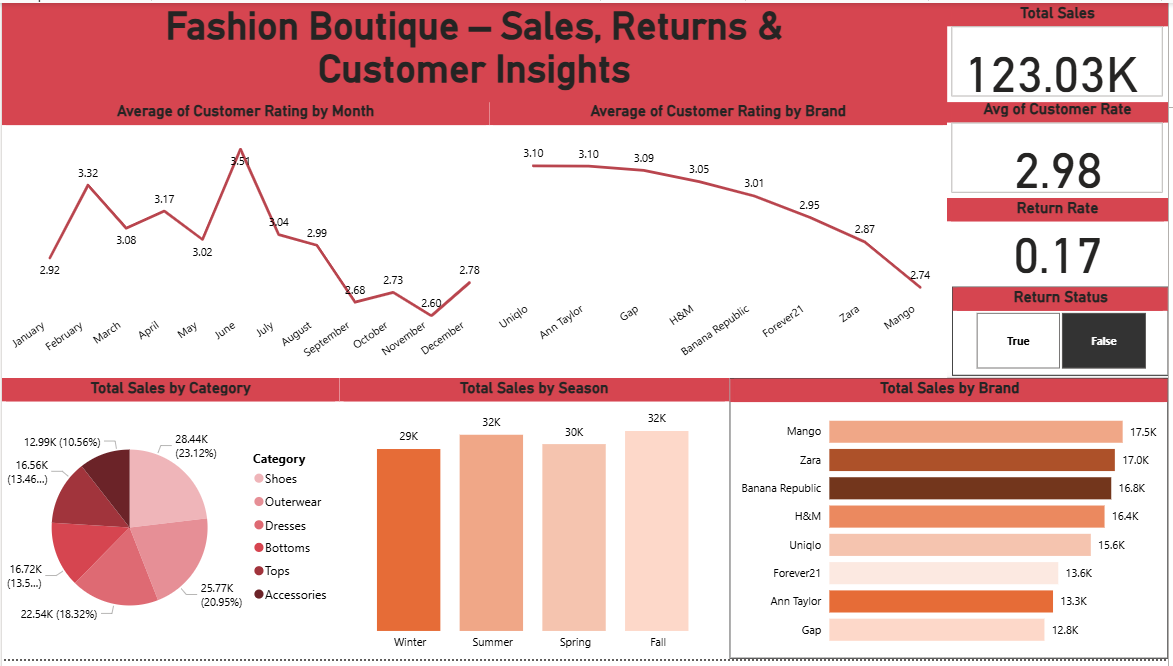

What the dashboard file says about the page in this screenshot:
{"tool":"powerbi","page":{"name":"Page 1","canvas":[1280,720],"ordinal":0},"visuals":[{"type":"pieChart","title":"Total Sales by Category","fields":{"Category":["Sheet1.category"],"Y":["Sum(Sheet1.current_price)"]},"box":[0,411.9,370.6,307.9],"z":0},{"type":"clusteredBarChart","title":"Total Sales by Brand","fields":{"Category":["Sheet1.brand"],"Y":["Sum(Sheet1.current_price)"]},"box":[798.2,411.9,481.8,307.9],"z":1000},{"type":"lineChart","title":"Average of Customer Rating by Brand","fields":{"Y":["Avg(Sheet1.customer_rating)"],"Category":["Sheet1.brand"]},"box":[535.2,108.4,502.2,303.3],"z":2000},{"type":"clusteredColumnChart","title":"Total Sales by Season","fields":{"Category":["Sheet1.season"],"Y":["Sum(Sheet1.current_price)"]},"box":[370.6,411.9,427.6,307.9],"z":3000},{"type":"lineChart","title":"Average of Customer Rating by Month","fields":{"Y":["Avg(Sheet1.customer_rating)"],"Category":["Sheet1.purchase_date.Variation.Date Hierarchy.Month"]},"box":[0,108.4,535.2,303.3],"z":4000},{"type":"slicer","title":"Return Status","fields":{"Values":["Sheet1.is_returned"]},"box":[1042.6,311.5,237.4,97.4],"z":5000},{"type":"cardVisual","title":"Avg of Customer Rate","fields":{"Data":["Avg(Sheet1.customer_rating)"]},"box":[1037.1,105.7,242.9,108.4],"z":6000},{"type":"cardVisual","title":"Total Sales","fields":{"Data":["Sum(Sheet1.current_price)"]},"box":[1037.4,0,242.9,108.4],"z":7000},{"type":"textbox","title":"Fashion Boutique –  Sales, Returns & Customer Insights","box":[0,0,1037.4,108.4],"z":8000},{"type":"card","title":"Return Rate","fields":{"Values":["Sheet1.ReturnRate"]},"box":[1037.4,214.1,242.9,93.3],"z":9000}]}

Visuals, with their boxes in screenshot pixels (x1, y1, x2, y2), scaled from the page's 1280x720 canvas onto the 1173x666 screenshot:
"Total Sales by Category" pieChart: x1=0, y1=381, x2=340, y2=665
"Total Sales by Brand" clusteredBarChart: x1=731, y1=381, x2=1172, y2=665
"Average of Customer Rating by Brand" lineChart: x1=490, y1=100, x2=951, y2=381
"Total Sales by Season" clusteredColumnChart: x1=340, y1=381, x2=731, y2=665
"Average of Customer Rating by Month" lineChart: x1=0, y1=100, x2=490, y2=381
"Return Status" slicer: x1=955, y1=288, x2=1172, y2=378
"Avg of Customer Rate" cardVisual: x1=950, y1=98, x2=1172, y2=198
"Total Sales" cardVisual: x1=951, y1=0, x2=1172, y2=100
"Fashion Boutique –  Sales, Returns & Customer Insights" textbox: x1=0, y1=0, x2=951, y2=100
"Return Rate" card: x1=951, y1=198, x2=1172, y2=284
